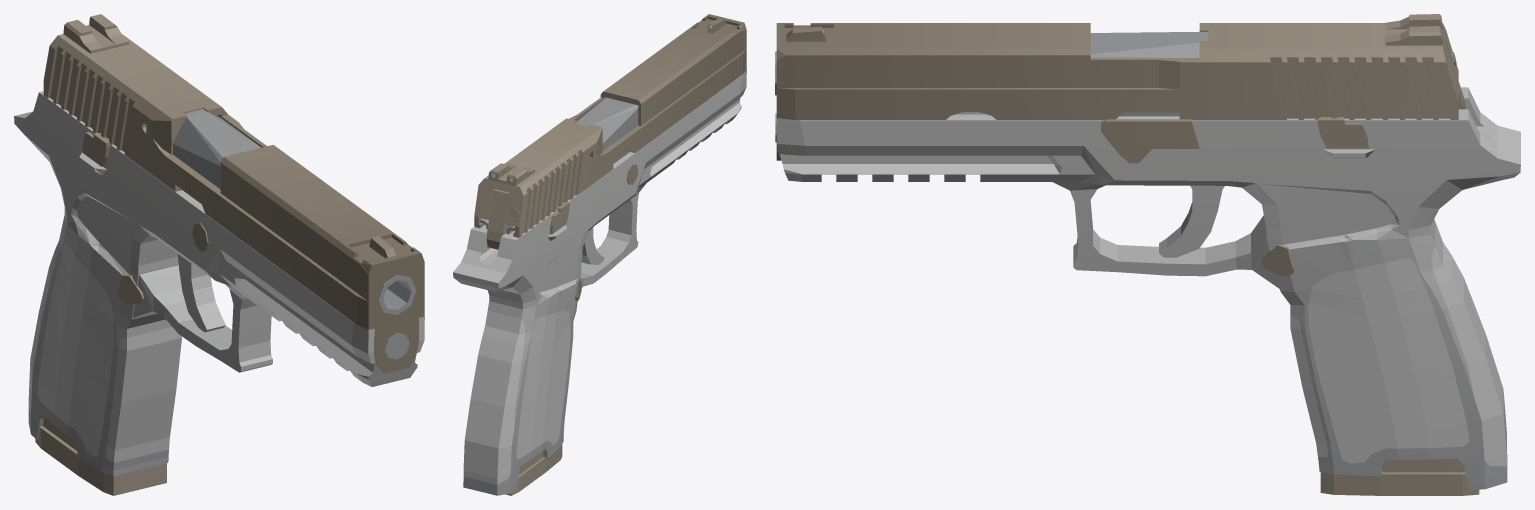
The model's file is p250_classic.glb.
3 renders of one model, left to right at view 1: azimuth 30°, elevation 25°; view 2: azimuth 150°, elevation 25°; view 3: azimuth 270°, elevation 25°, orthographic. The views are drawn at different scales.
Parts seen in each view (by area): view 1: Object_5, Object_7, Object_2, Object_6, Object_3; view 2: Object_5, Object_7, Object_2, Object_6, Object_3; view 3: Object_5, Object_7, Object_2, Object_6, Object_3.
Part boxes in pixels (x1,y1,x2,y2): Object_5: (14, 91, 424, 475); Object_7: (43, 33, 424, 373); Object_2: (28, 226, 181, 462); Object_6: (35, 14, 395, 495); Object_3: (173, 109, 416, 359); Object_5: (453, 69, 746, 495); Object_7: (474, 14, 746, 237); Object_2: (463, 310, 573, 484); Object_6: (486, 18, 726, 495); Object_3: (479, 97, 638, 234); Object_5: (776, 87, 1520, 489); Object_7: (776, 23, 1458, 163); Object_2: (1290, 222, 1506, 466); Object_6: (786, 14, 1479, 495); Object_3: (775, 31, 1208, 142).
Size of the model in its own units: 0.0299 by 0.1551 by 0.2298.
